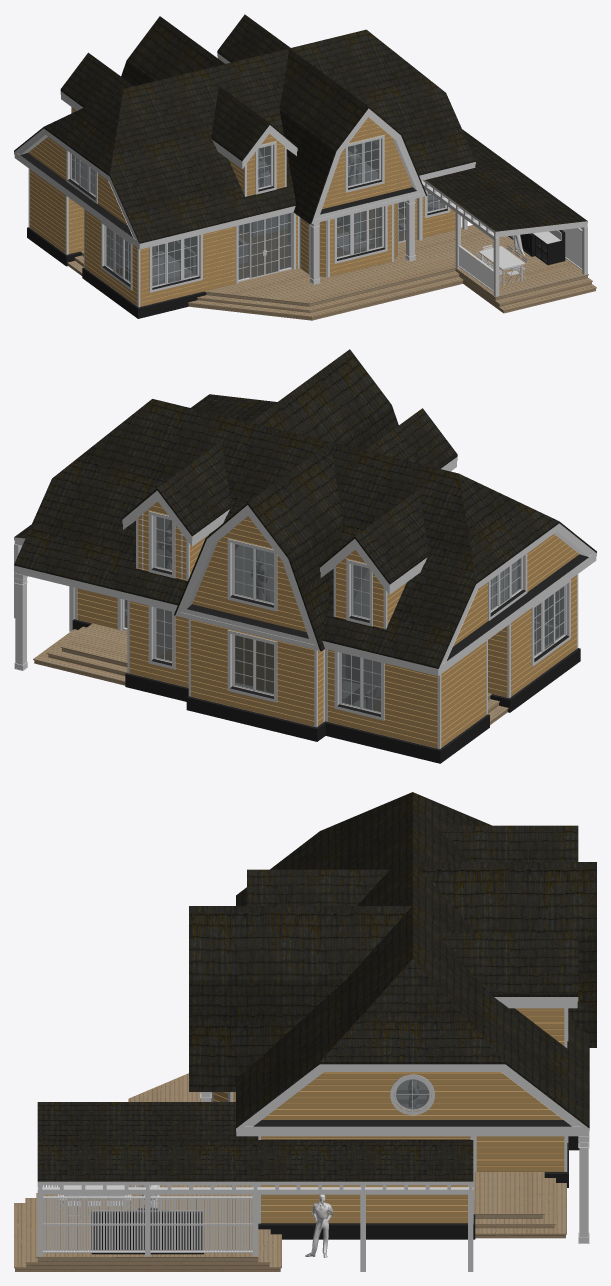
Rendered from suburban_house.glb.
3 renders of one model, top to bottom at view 1: azimuth 30°, elevation 25°; view 2: azimuth 150°, elevation 25°; view 3: azimuth 270°, elevation 25°, orthographic. The views are drawn at different scales.
Visible parts, largest first — view 1: roof_roof_0, white_white_0, floor_floor_0, siding_siding_0, glass_glass_0, object 4; view 2: roof_roof_0, siding_siding_0, white_white_0, glass_glass_0, object 4, floor_floor_0; view 3: roof_roof_0, white_white_0, siding_siding_0, floor_floor_0, object 4, glass_glass_0.
Part boxes in pixels (bbox=[...]): roof_roof_0: bbox=[14, 14, 587, 243]; white_white_0: bbox=[14, 53, 587, 307]; floor_floor_0: bbox=[30, 208, 596, 320]; siding_siding_0: bbox=[28, 108, 455, 306]; glass_glass_0: bbox=[72, 139, 444, 286]; object 4: bbox=[20, 153, 565, 318]; roof_roof_0: bbox=[14, 349, 596, 668]; siding_siding_0: bbox=[77, 501, 579, 748]; white_white_0: bbox=[14, 456, 596, 749]; glass_glass_0: bbox=[124, 516, 563, 712]; object 4: bbox=[72, 554, 588, 763]; floor_floor_0: bbox=[33, 618, 576, 748]; roof_roof_0: bbox=[37, 792, 596, 1181]; white_white_0: bbox=[37, 997, 589, 1271]; siding_siding_0: bbox=[213, 1008, 564, 1223]; floor_floor_0: bbox=[14, 1073, 566, 1271]; object 4: bbox=[91, 1120, 579, 1254]; glass_glass_0: bbox=[396, 1079, 429, 1109].
Size of the model in its own units: 16.43 by 7.45 by 15.58.
6 materials, 2 textured.
